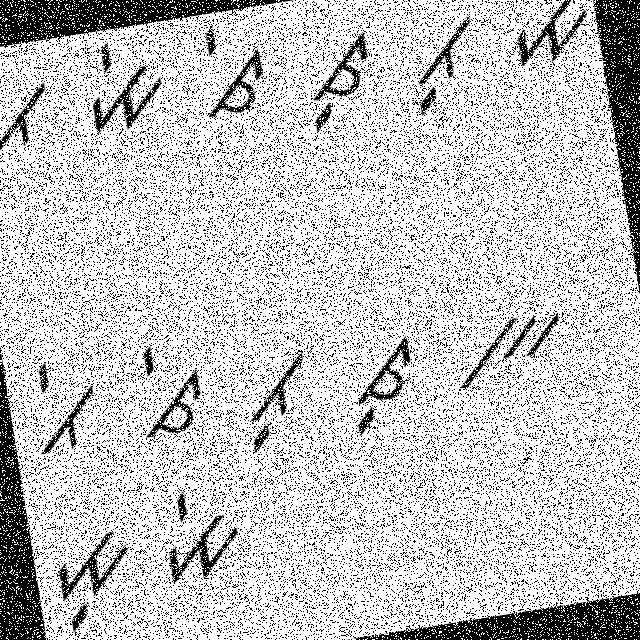be: (15, 346, 110, 469), (0, 50, 60, 159)
bu: (395, 6, 490, 126), (226, 343, 325, 458)
ce: (123, 336, 214, 451), (188, 17, 275, 128)
cu: (331, 326, 432, 444), (290, 27, 387, 138)
ma: (506, 0, 597, 74)
me: (65, 28, 176, 142), (146, 478, 253, 592)
mu: (38, 520, 146, 638)
